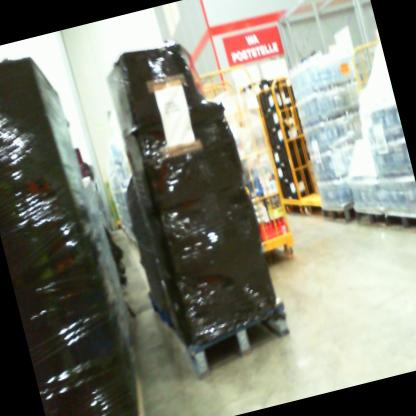pallet: (157, 250, 298, 378), (317, 195, 364, 233), (349, 197, 394, 236), (384, 204, 416, 244)
